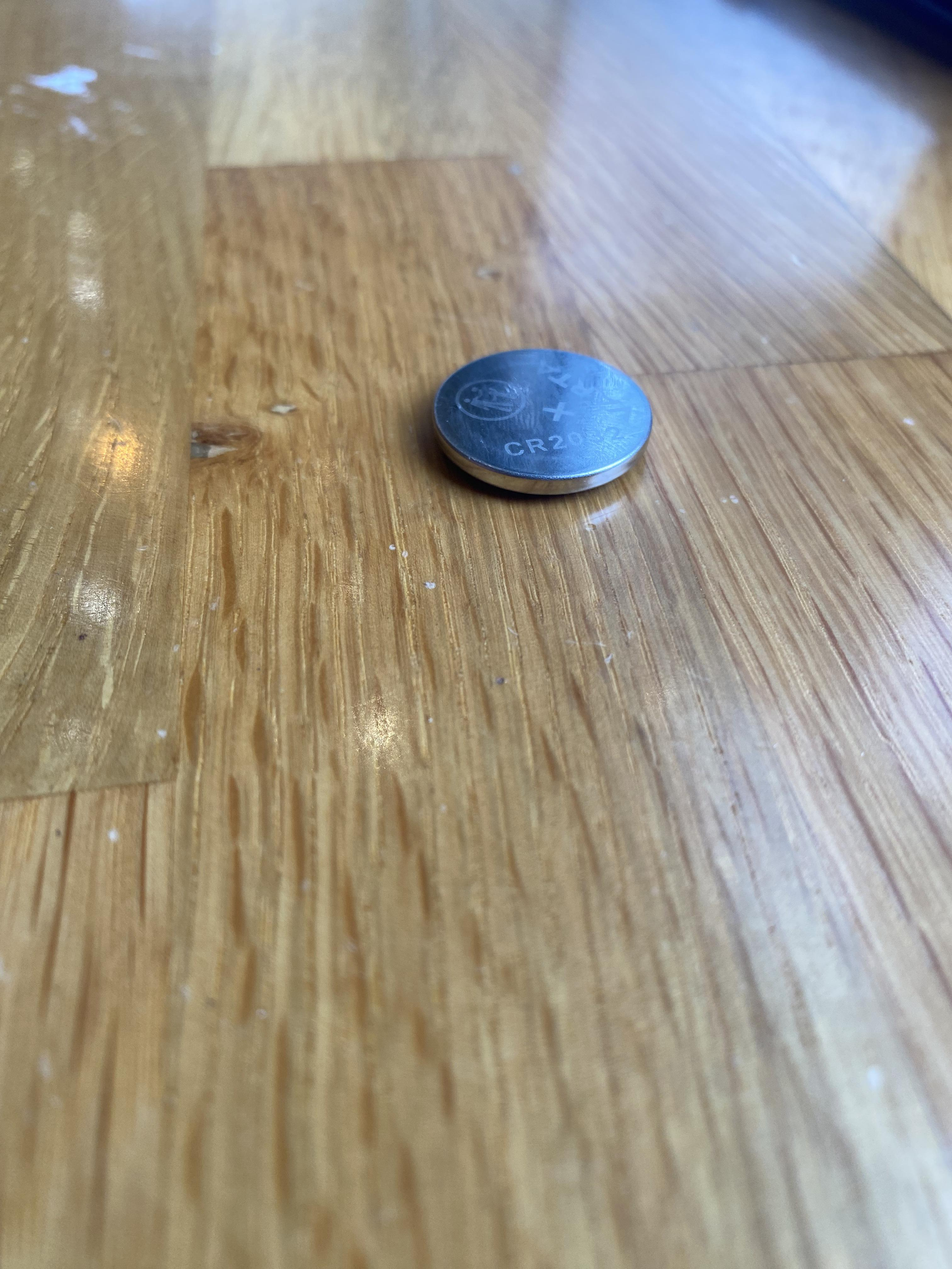COIN: (430, 346, 653, 497)
